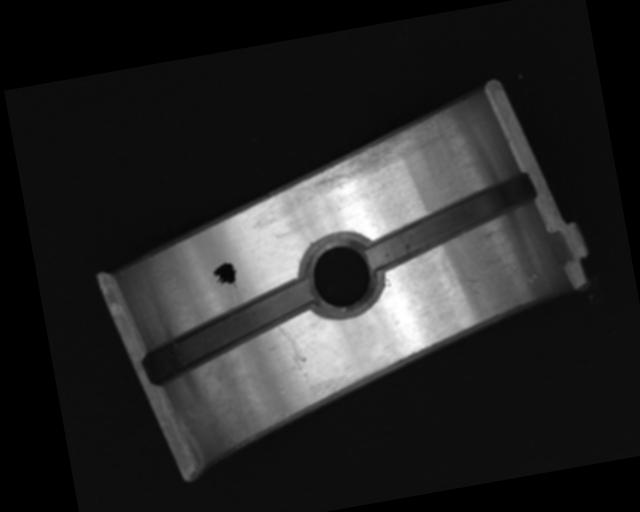blot: (210, 259, 239, 292)
bruise: (459, 275, 482, 287), (525, 271, 541, 284)
gap: (135, 276, 322, 385), (357, 171, 544, 271)
hole: (297, 227, 388, 320)
nick: (277, 321, 311, 380)
scratch: (284, 113, 454, 199)
